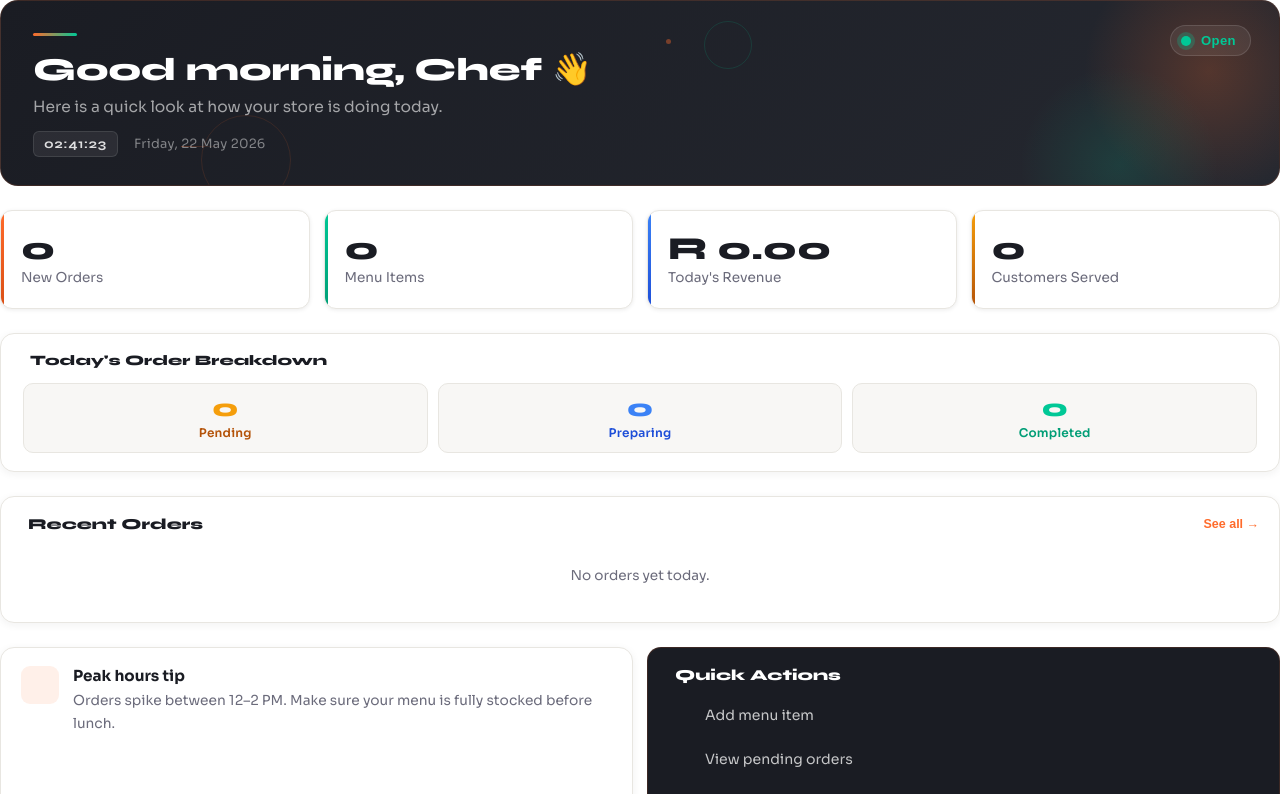
Scenario: VenHome – toggleStore › catches and silently swallows updateDoc errors
expect the text "Open" is shown: met, box [1201,33,1236,48]
Should not throw
Click the button with aria-label "store is open" at [1210, 40], box [1170,25,1251,56]
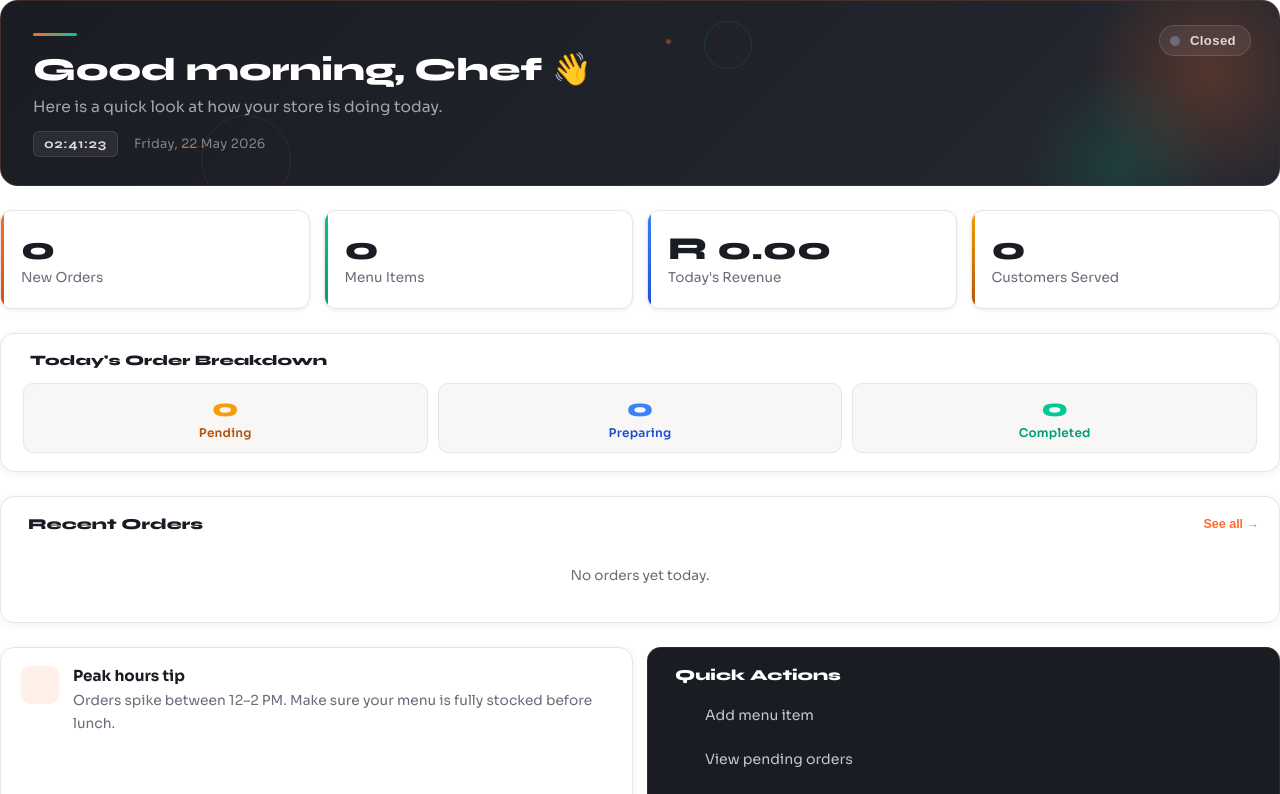
expect the text "Closed" is shown: met, box [1190,33,1236,48]
